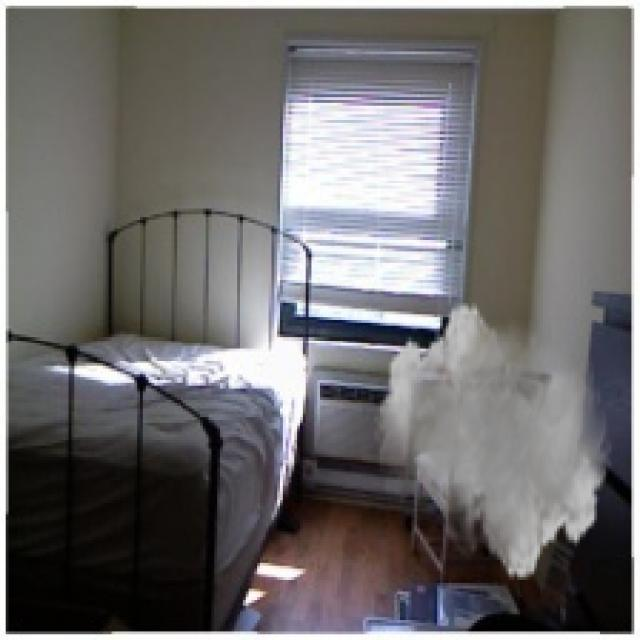Smoke: (374, 300, 612, 583)
